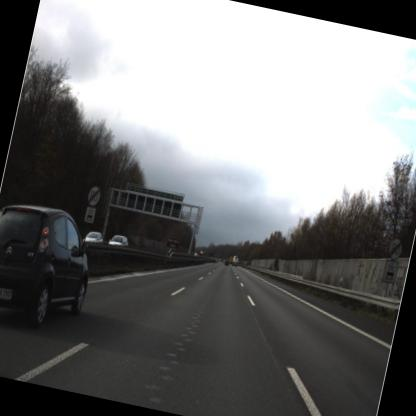other: (84, 183, 102, 207)
